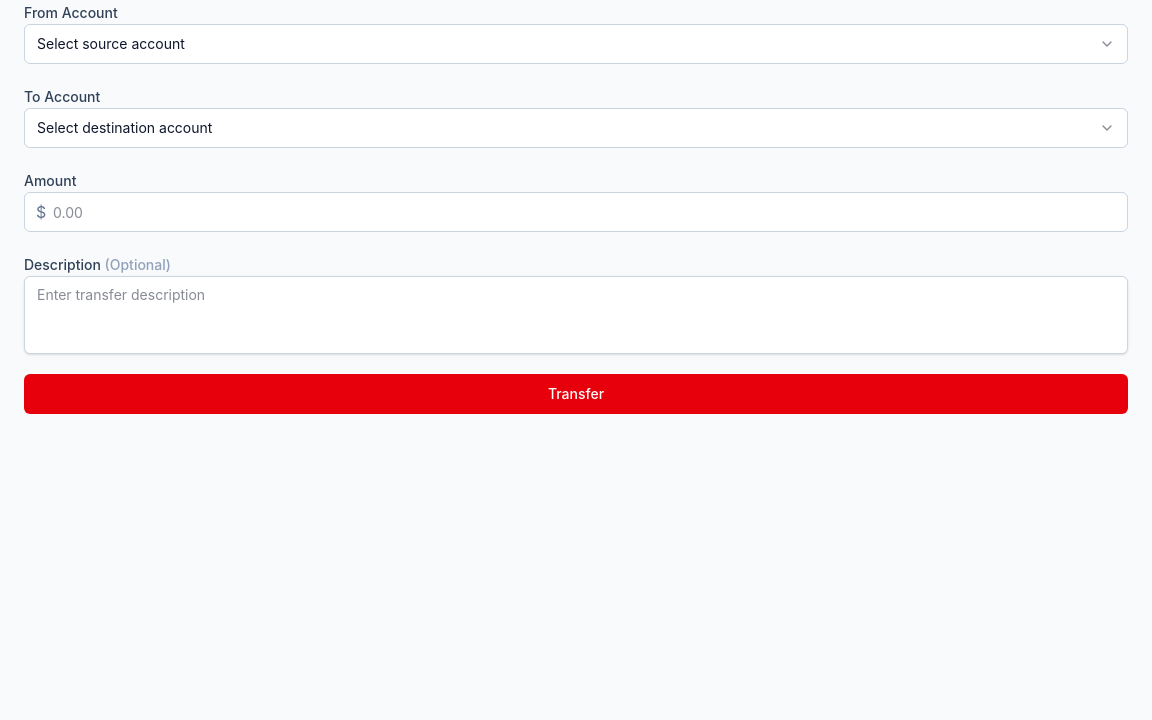
Test: TransferForm › Form Submission - Error Handling › should display error message on API failure
// Fill and submit form
Click the dropdown named "from account".
click(111, 44)  # box [24,24,1128,64]
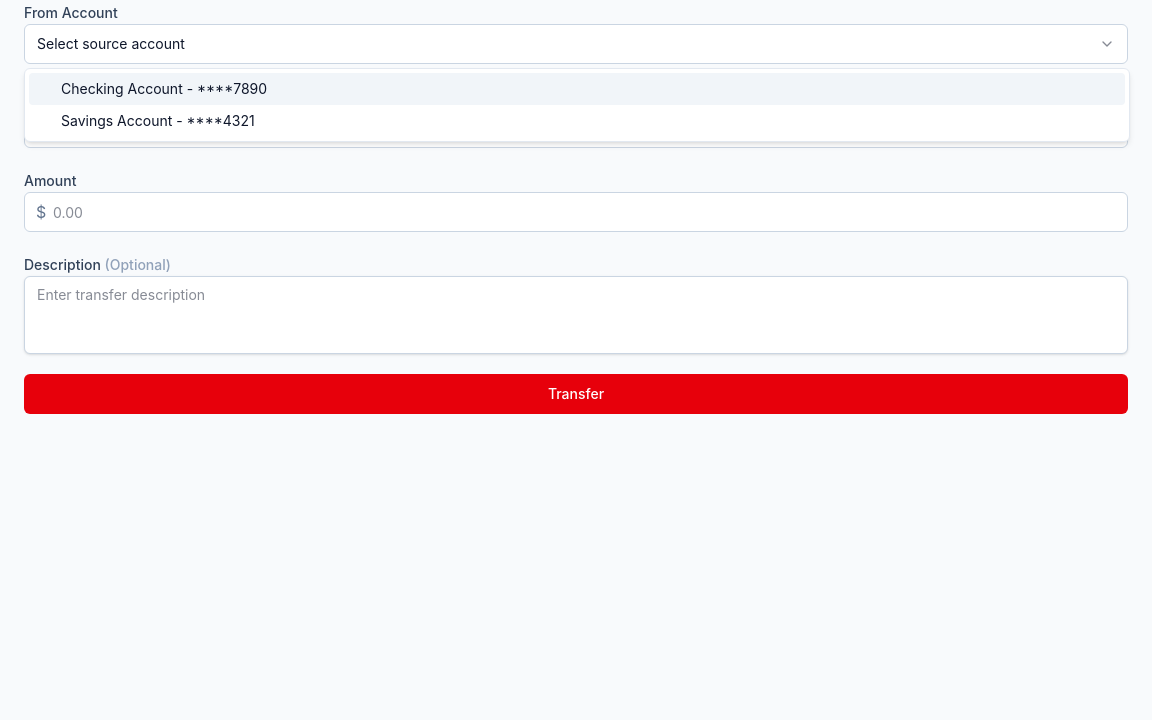
Click the option "Checking Account - ****7890".
click(122, 88)  # box [29,73,1125,105]
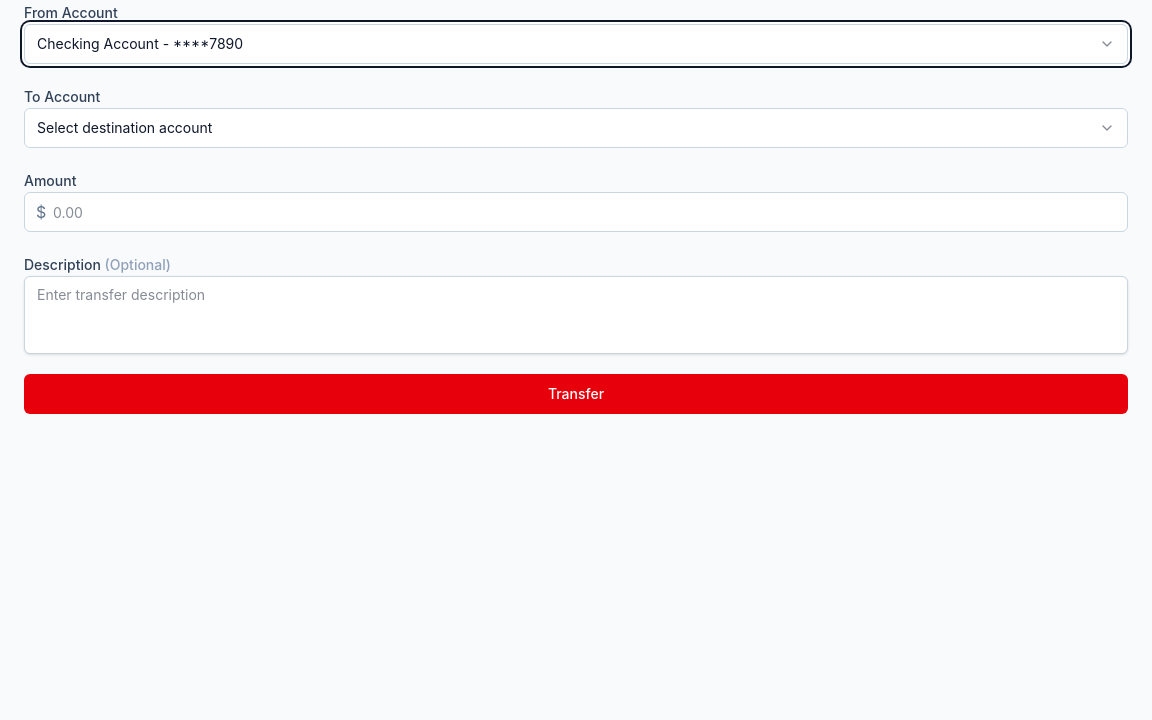
Click the dropdown named "to account".
click(125, 128)  # box [24,108,1128,148]
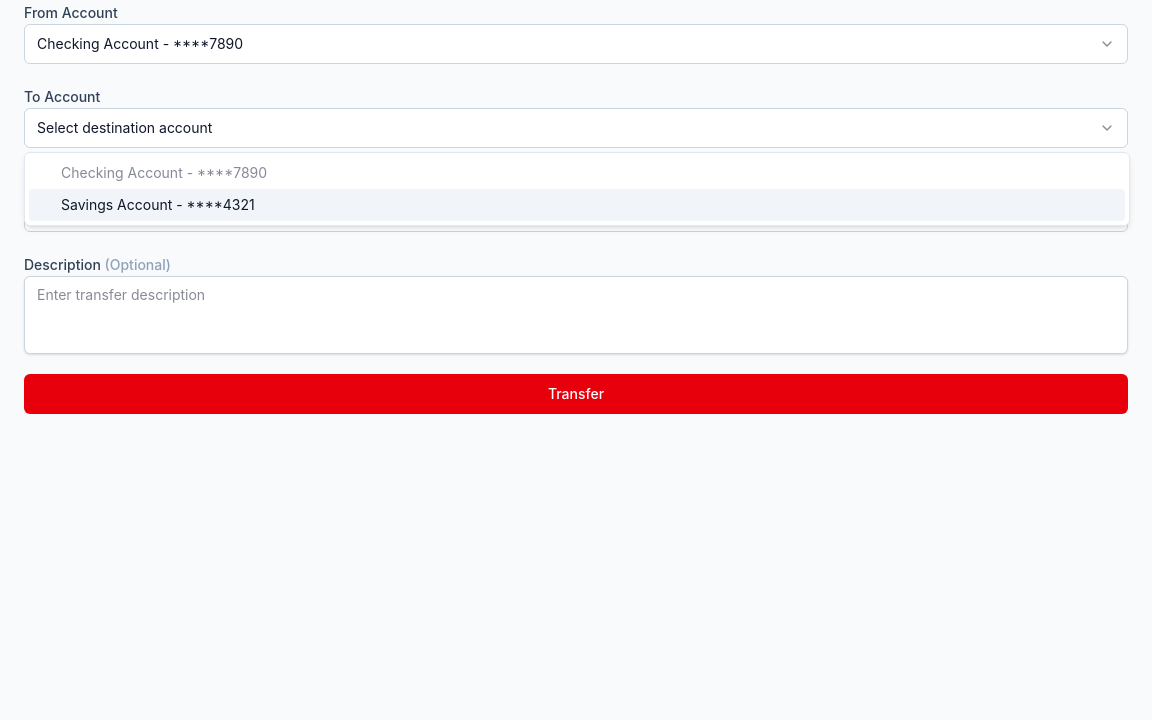
Click the option "Savings Account - ****4321".
click(117, 204)  # box [29,189,1125,221]
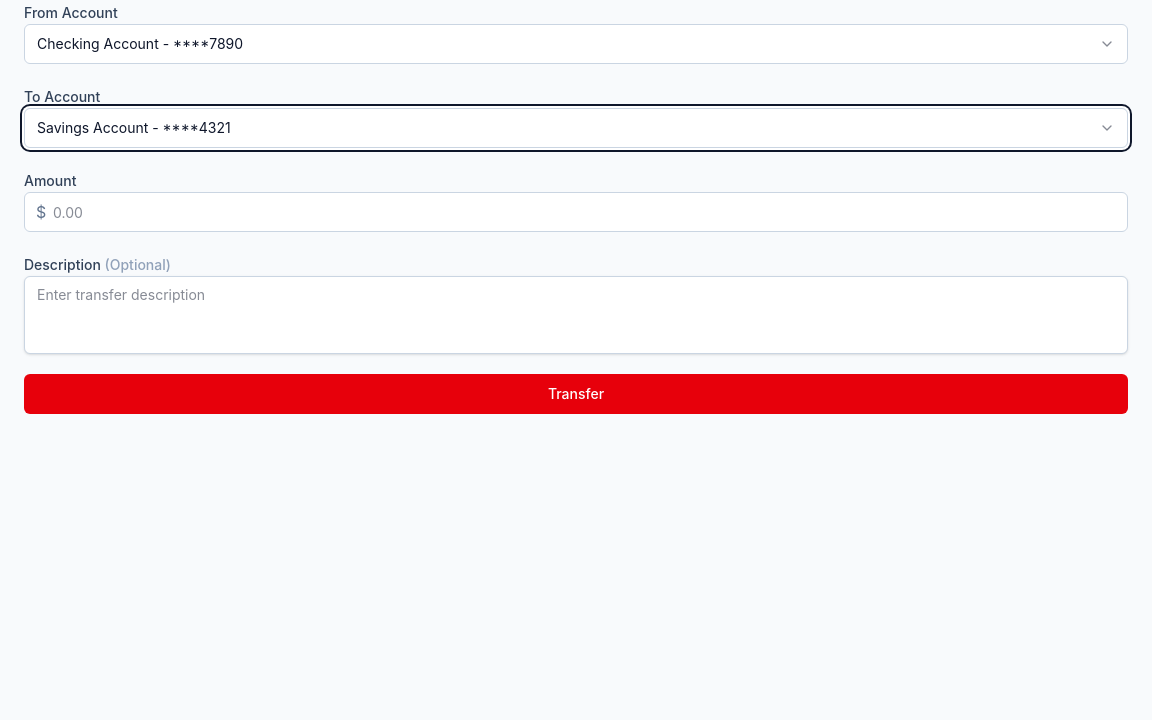
Type "100" into the field labelled "Amount".
click(576, 212); type("100")  # box [24,192,1128,232]
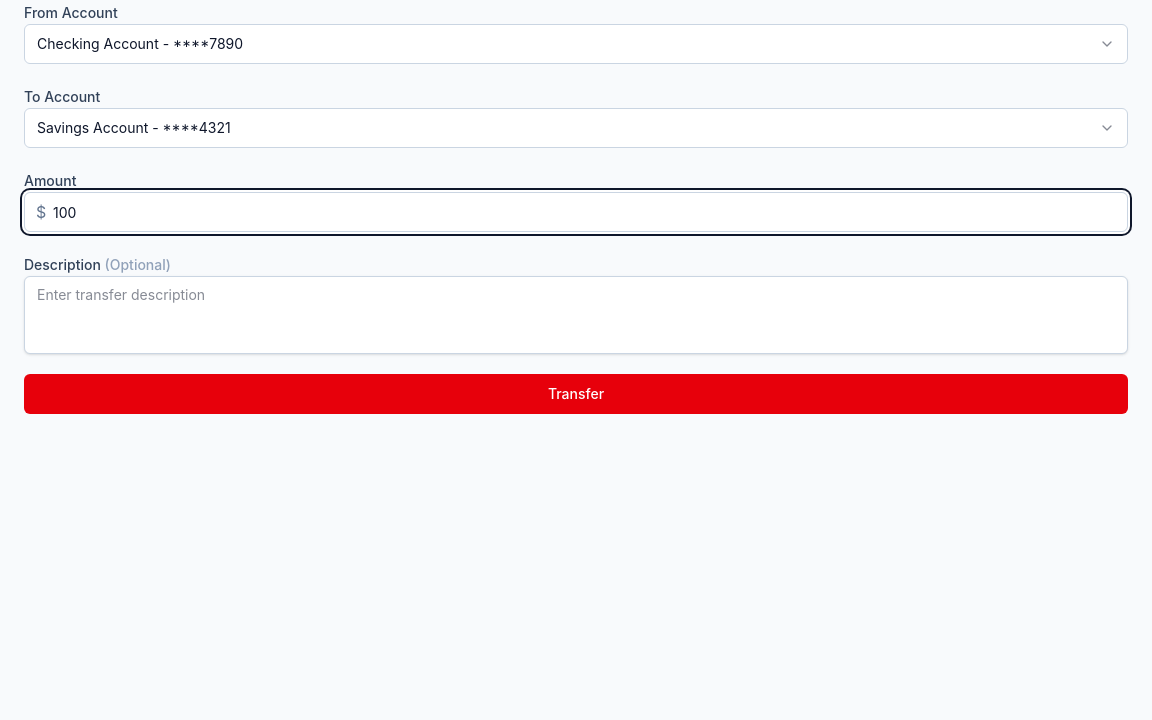
Click the button "Transfer".
click(576, 394)  # box [24,374,1128,414]
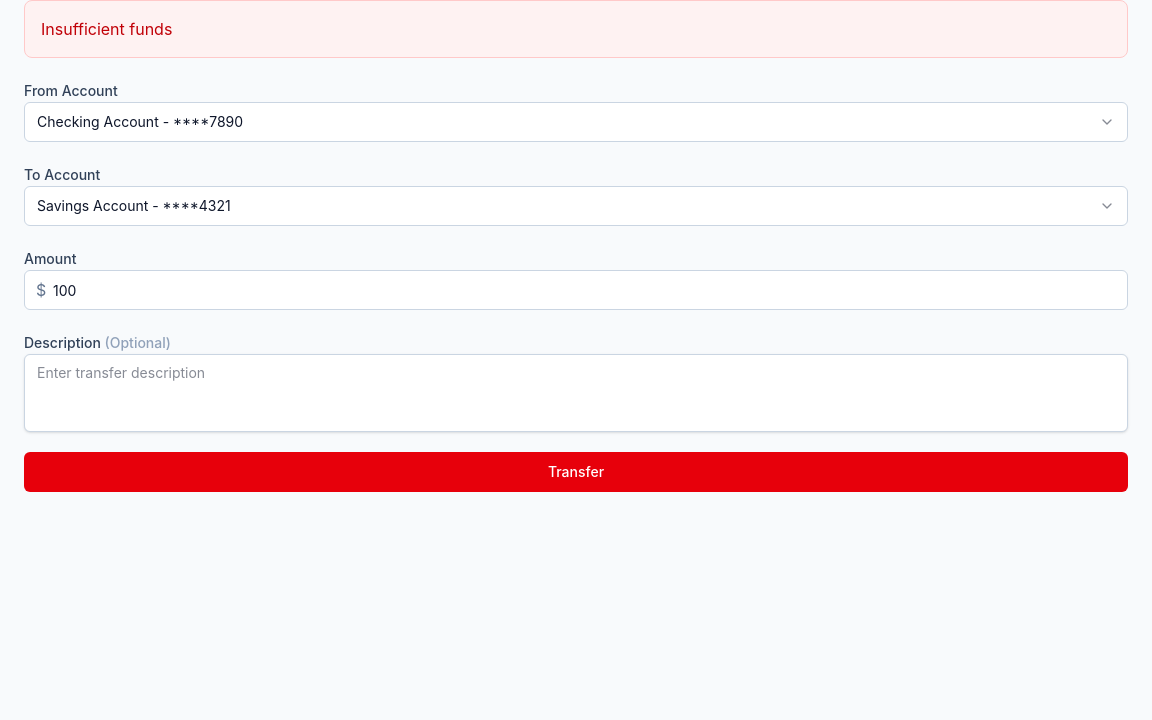
Expected: the text "Insufficient funds" is shown, [41,19,172,39]
